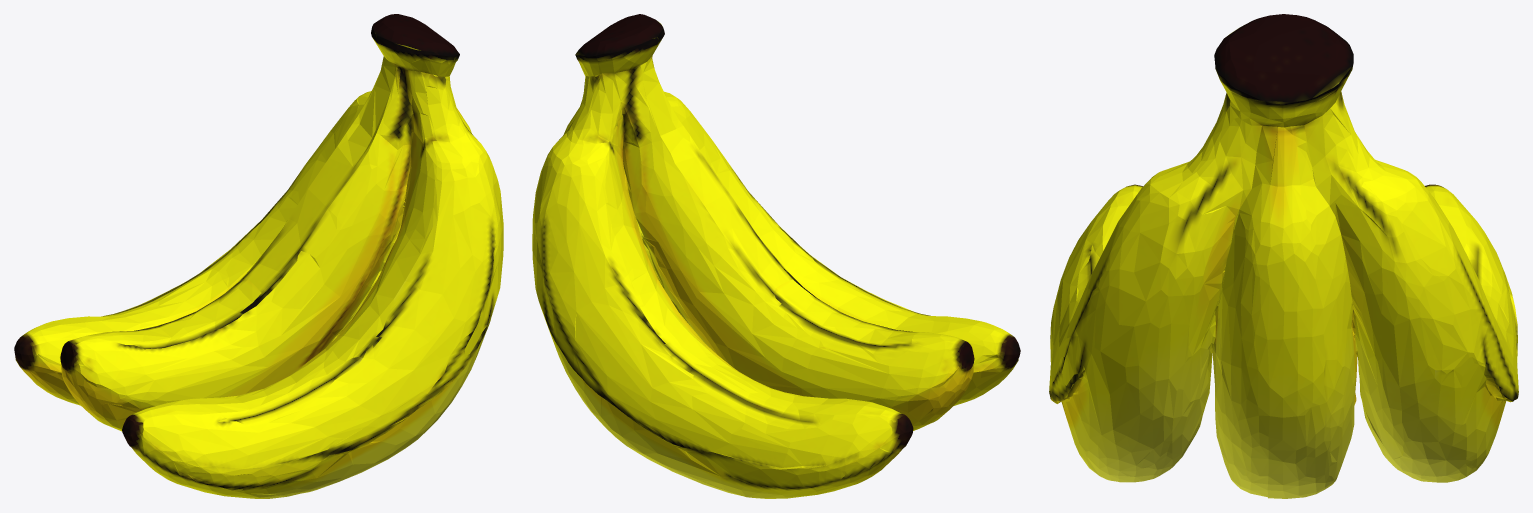
File: banana.glb
The picture shows the model from 3 angles, left to right: view 1: azimuth 30°, elevation 25°; view 2: azimuth 150°, elevation 25°; view 3: azimuth 270°, elevation 25°; orthographic projection. The views are drawn at different scales.
Visible parts, largest first — view 1: world; view 2: world; view 3: world.
Part boxes in pixels (<box>): world: <box>14,14,503,498</box>; world: <box>532,14,1020,498</box>; world: <box>1049,14,1518,498</box>.
Size of the model in its own units: 0.9991 by 0.9083 by 0.7249.
Materials: 1 (1 with a texture image).
